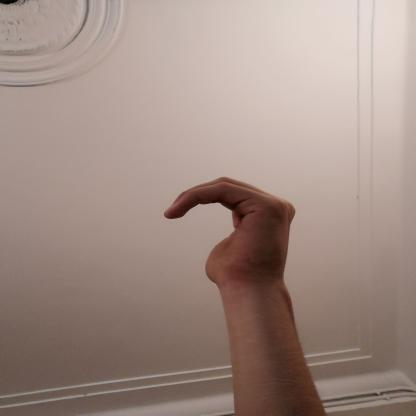HAA: (152, 168, 318, 298)
